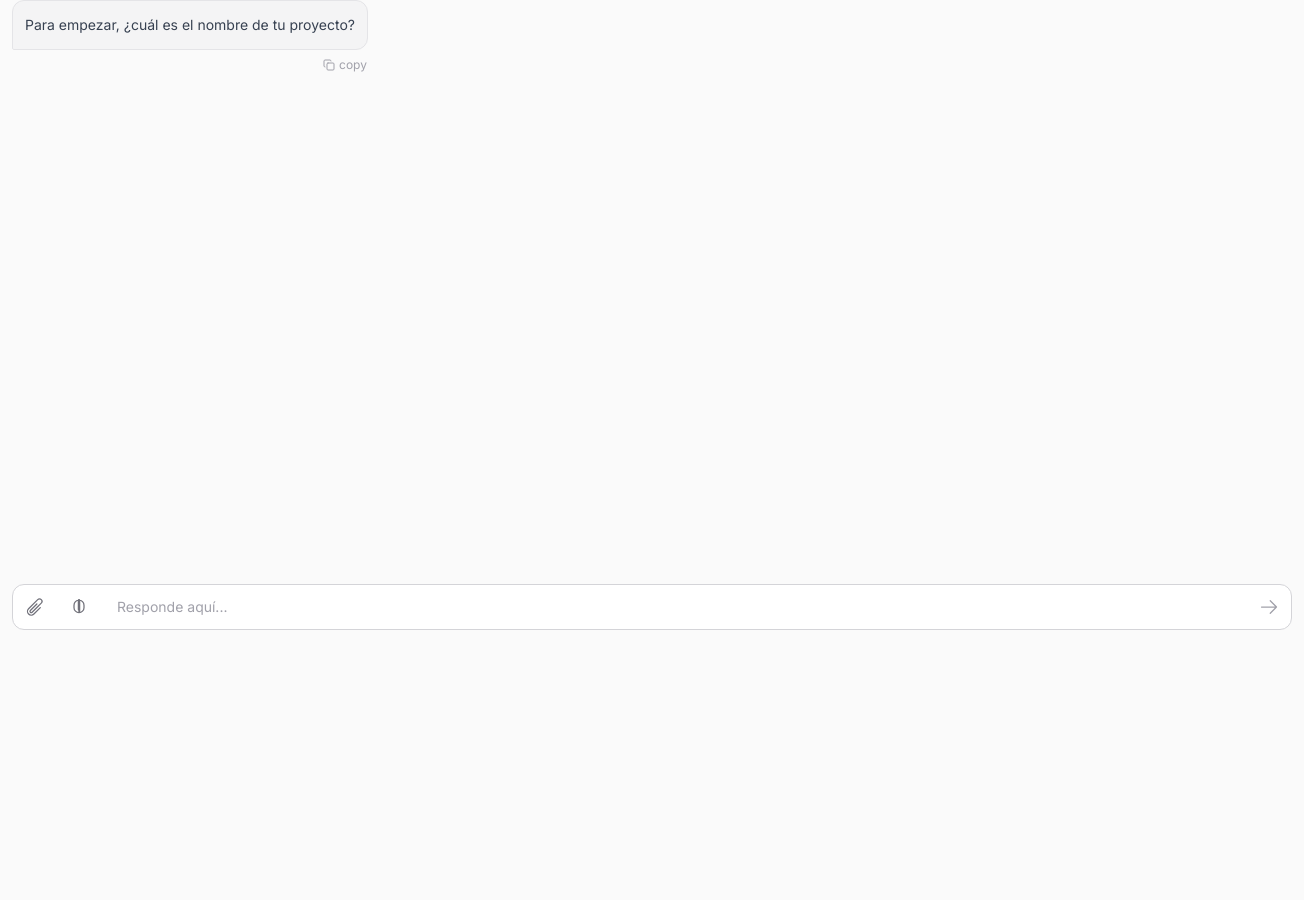
Test: ChatInterface guided creation resilience › shows the successful direct-fallback response without surfacing proxy-local errors
Type "Implementación de plataforma de beneficios" into the field with placeholder "Responde aquí...". click: (674, 607)
box: [101, 585, 1247, 629]
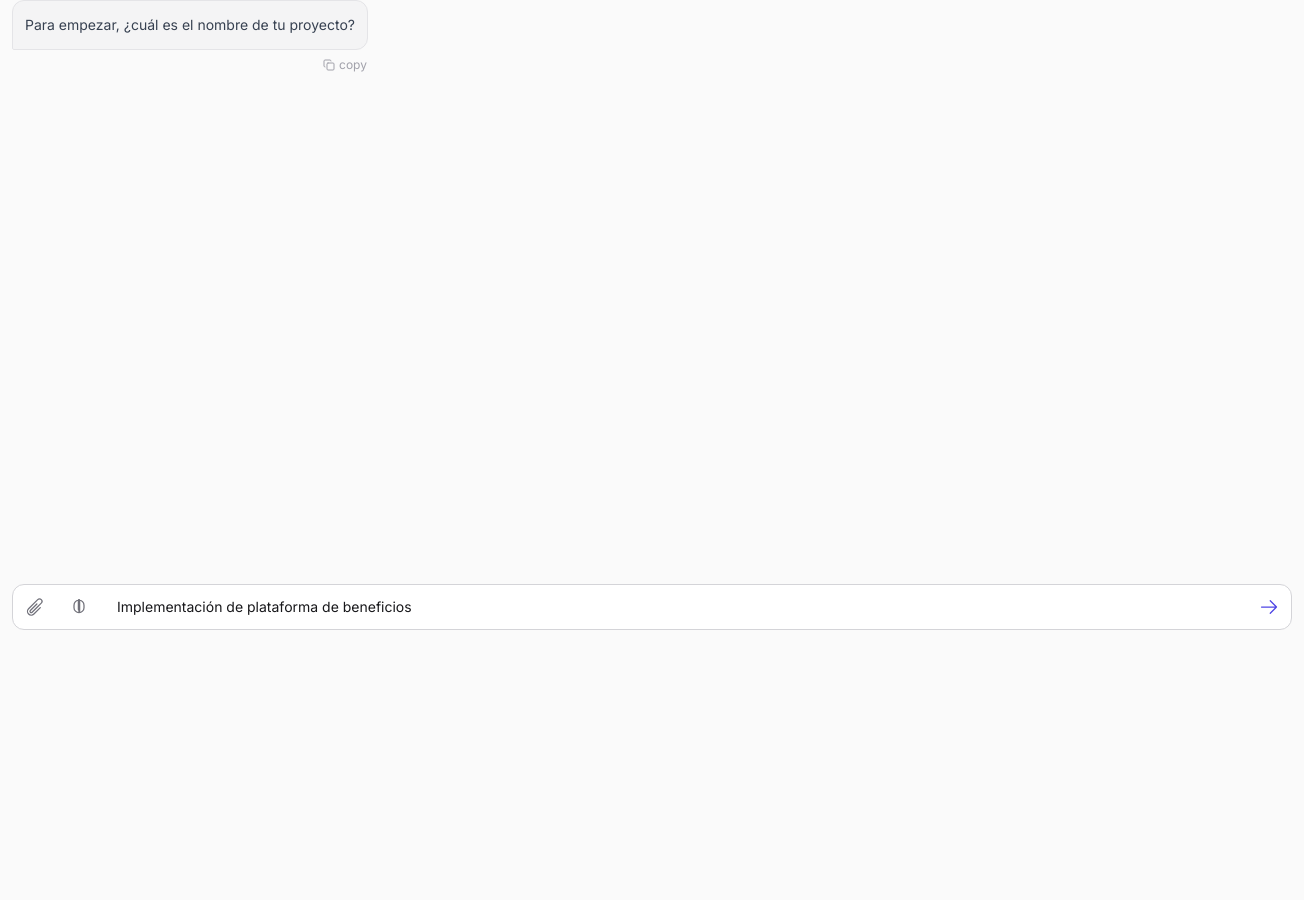
Press Enter in the field with placeholder "Responde aquí...", box [101, 585, 1247, 629]
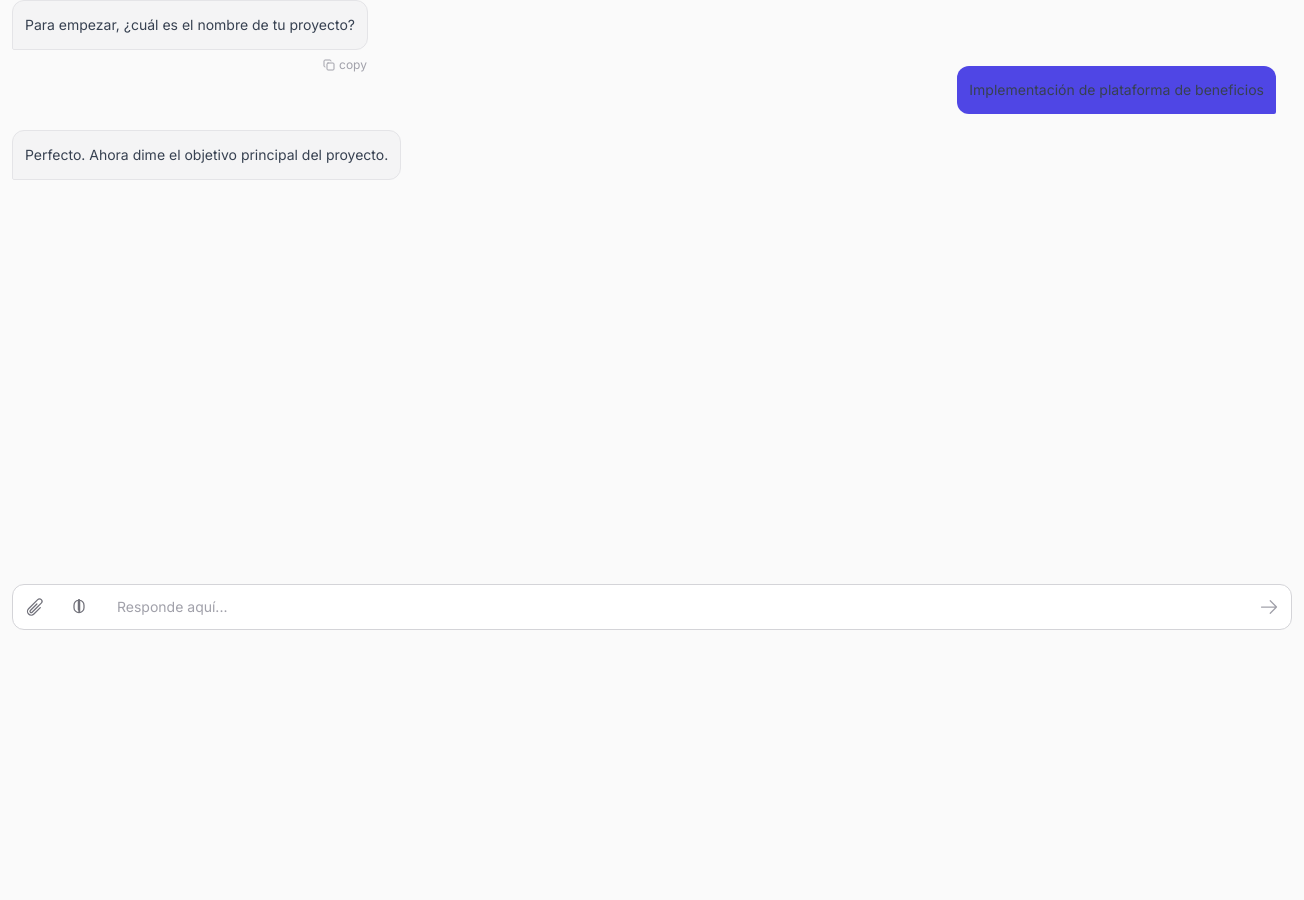
Result: the text "Perfecto. Ahora dime el objetivo principal del proyecto." is shown at [25, 143, 388, 167]
